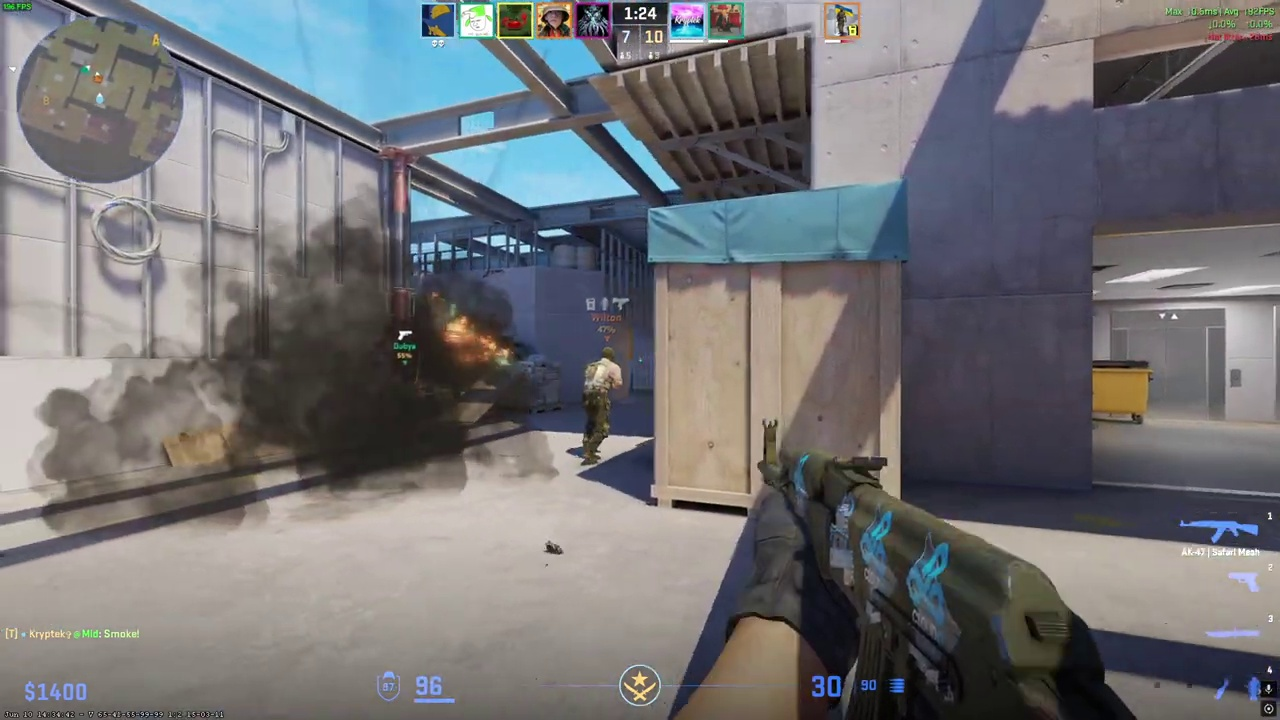Terrorist: (581, 347, 623, 463)
